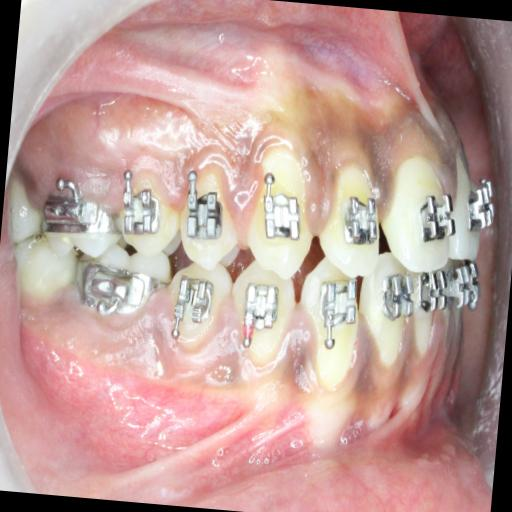correct_brace: (179, 160, 243, 274), (258, 172, 306, 256), (336, 190, 382, 258), (417, 186, 456, 248)
incorrect_brace: (314, 154, 392, 278), (180, 168, 230, 248)
